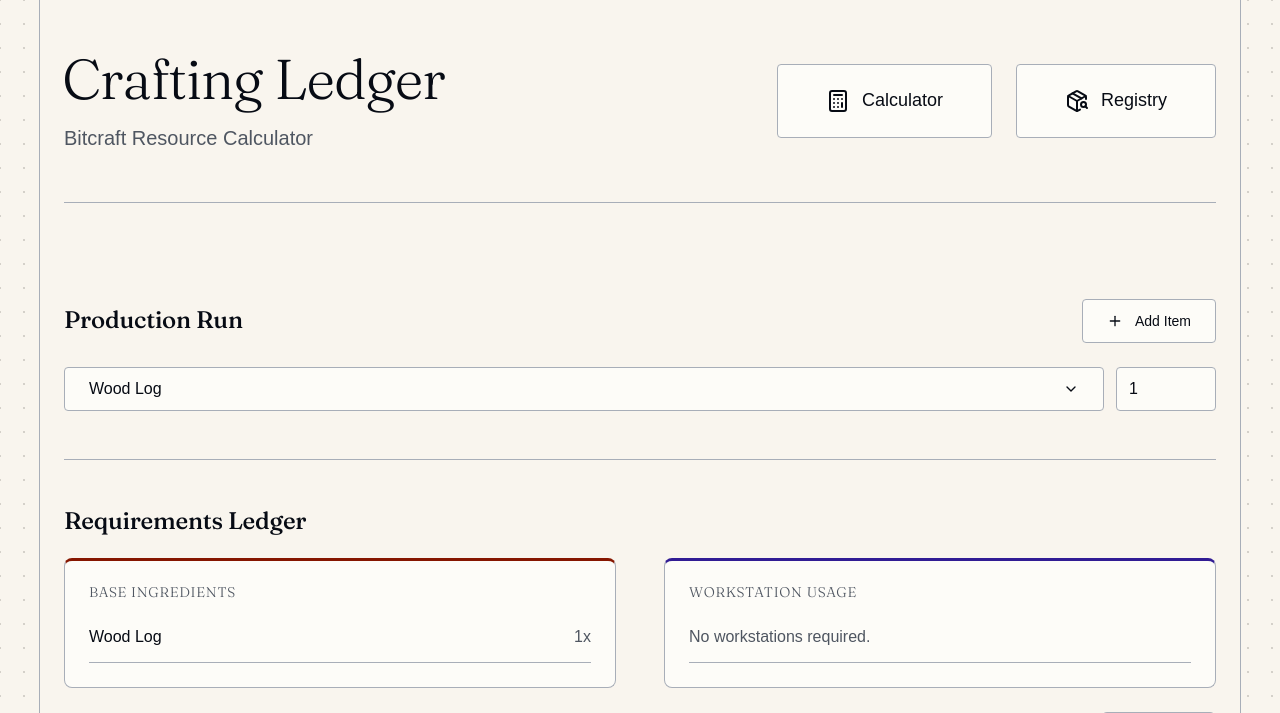
Test: Byproduct quantity inputs › should render min and max inputs with default values
Click the button "Registry".
click(1116, 101)  # box 1016,64 -> 1216,138
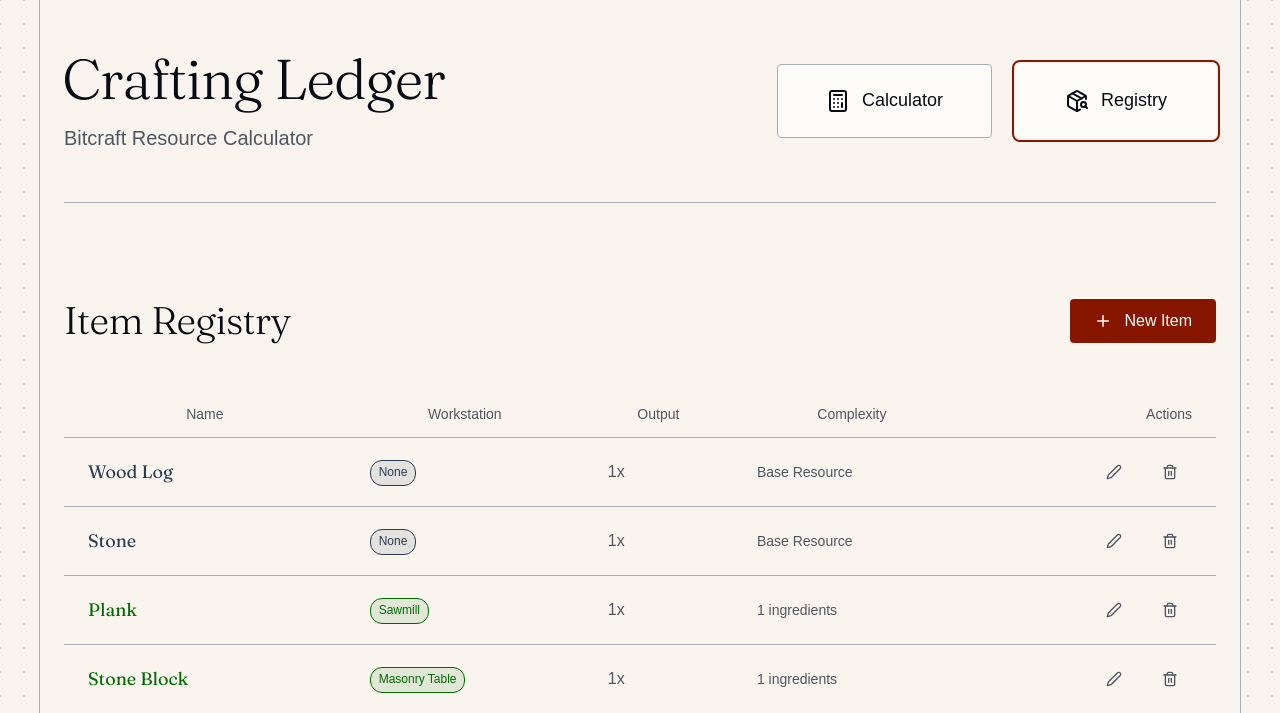
Click the button "New Item".
click(1143, 321)  # box 1070,299 -> 1216,343
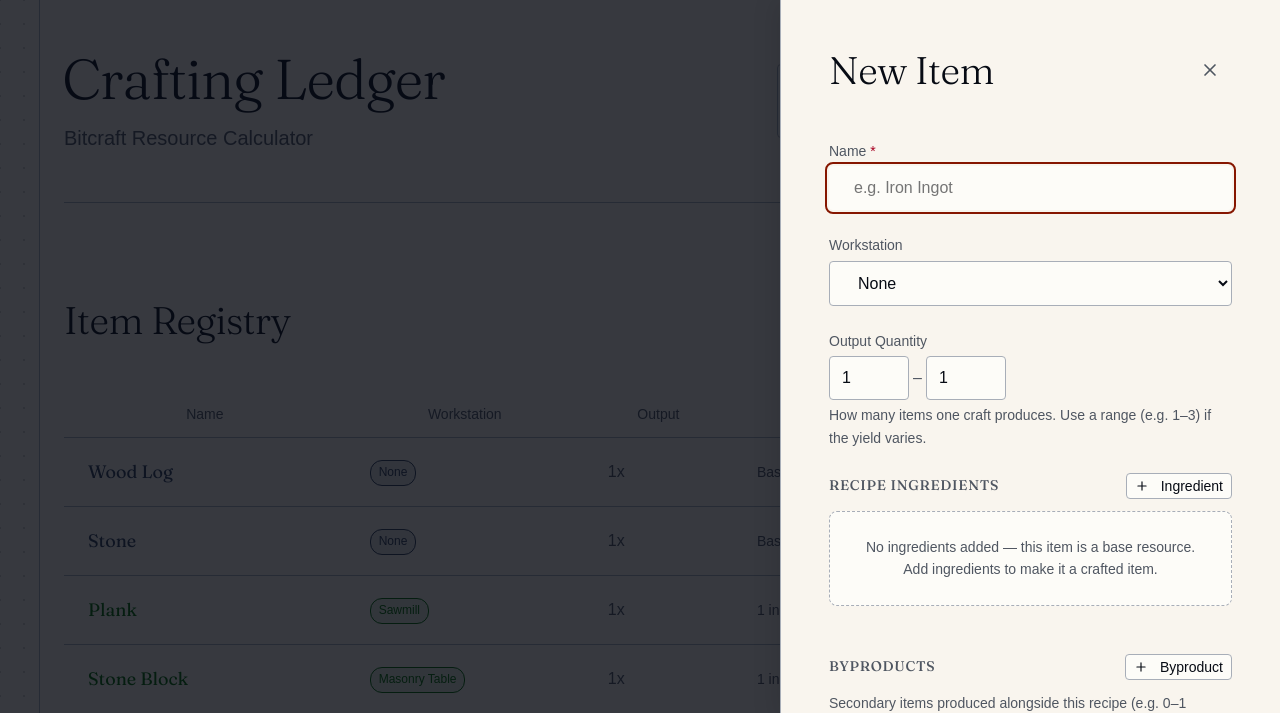
Type "Test Item" into the field labelled "Name *".
click(1030, 188); type("Test Item")  # box 829,166 -> 1232,210
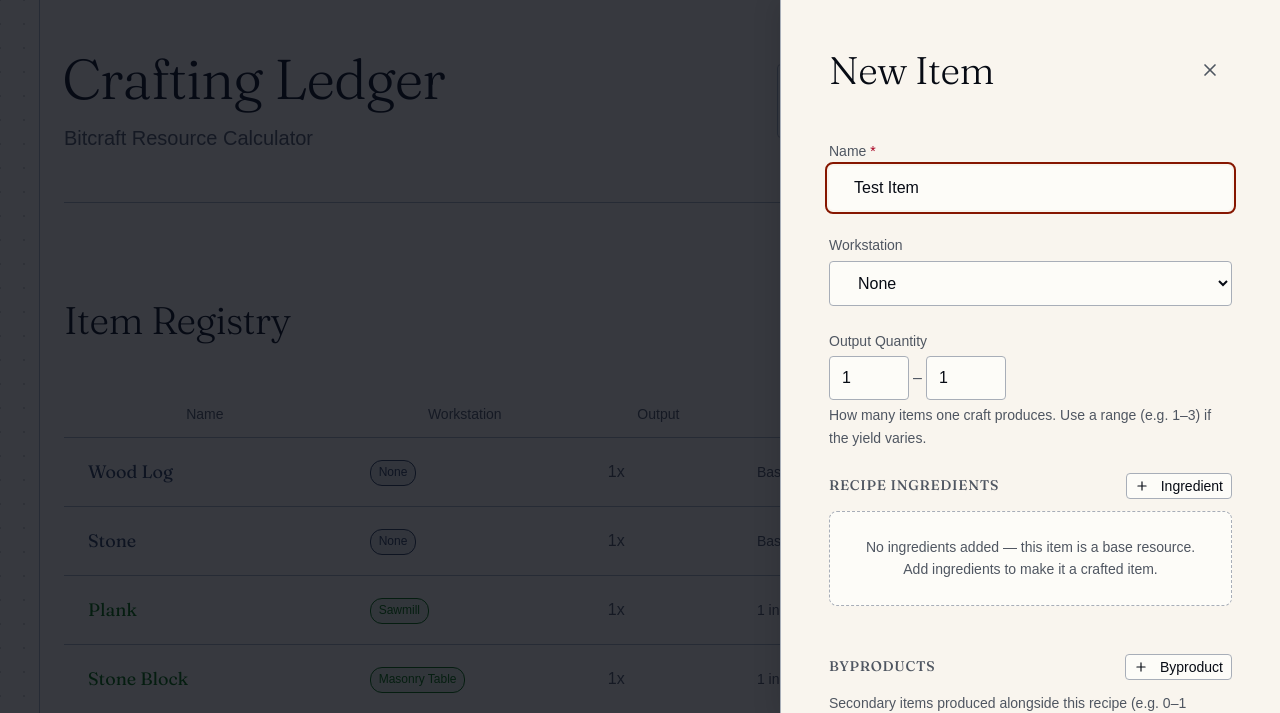
Click the button "Byproduct".
click(1178, 667)  # box 1125,654 -> 1232,680
(page scrolled)
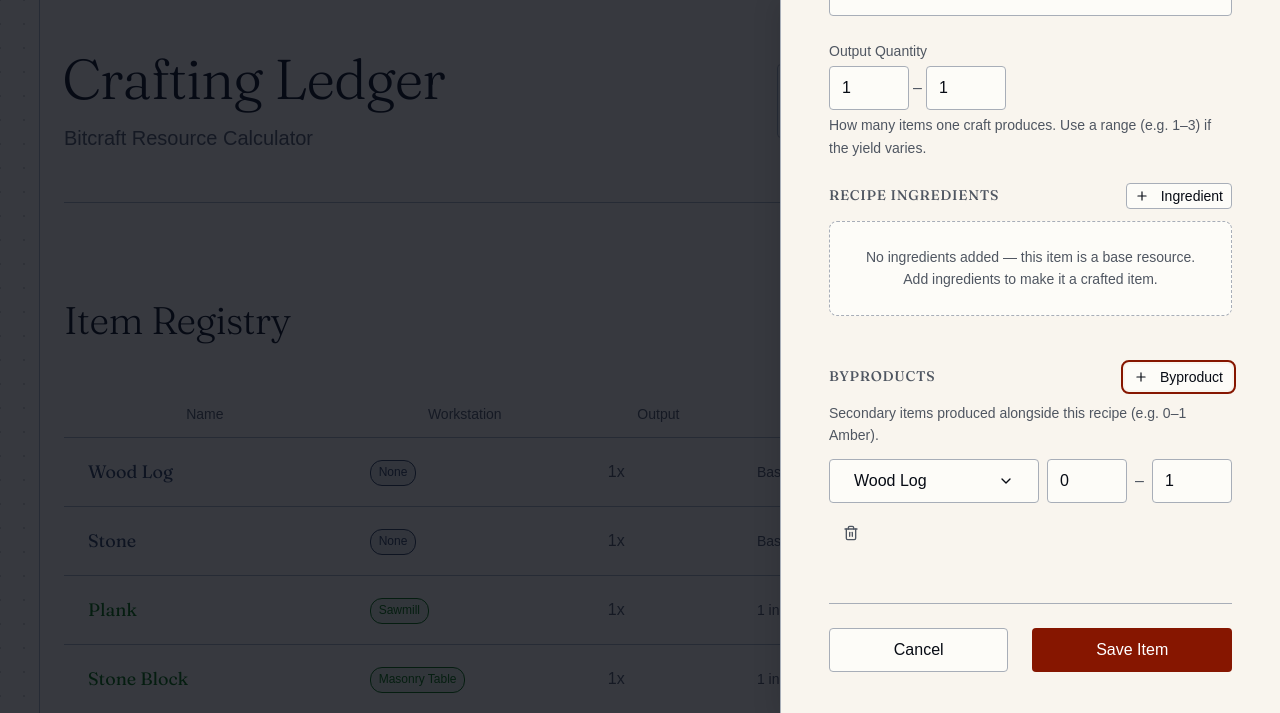
expect the number field named "min quantity for byproduct 1" holds "0": met, box 1047,458 -> 1127,502
expect the number field named "max quantity for byproduct 1" holds "1": met, box 1152,458 -> 1232,502
